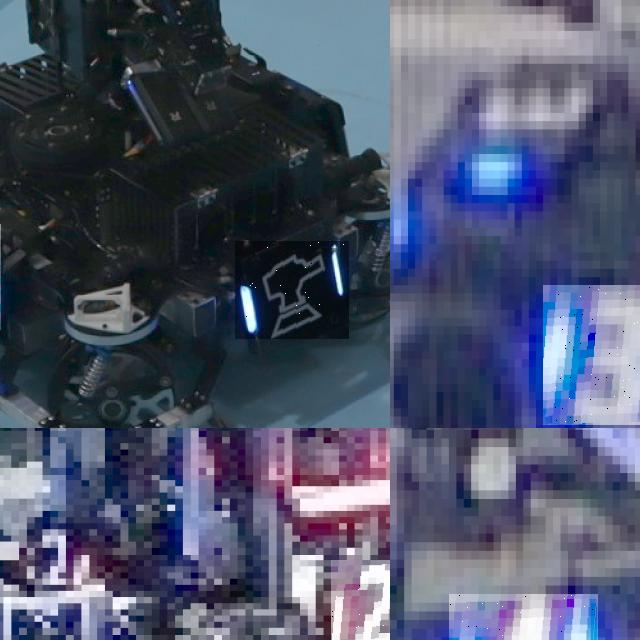B3: (543, 285, 640, 424)
B4: (449, 594, 598, 640)
Bs: (235, 241, 349, 339)
R2: (331, 560, 390, 640)
